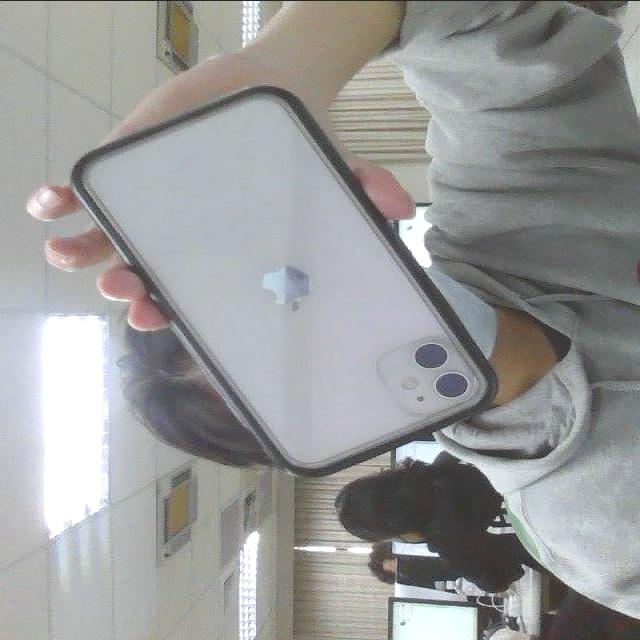ph: (56, 59, 509, 522)
